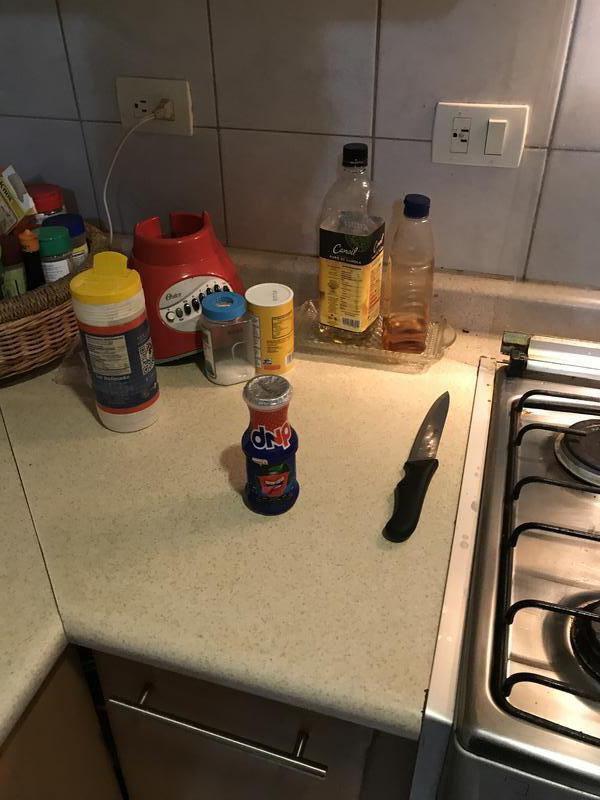danup: (241, 375, 301, 513)
